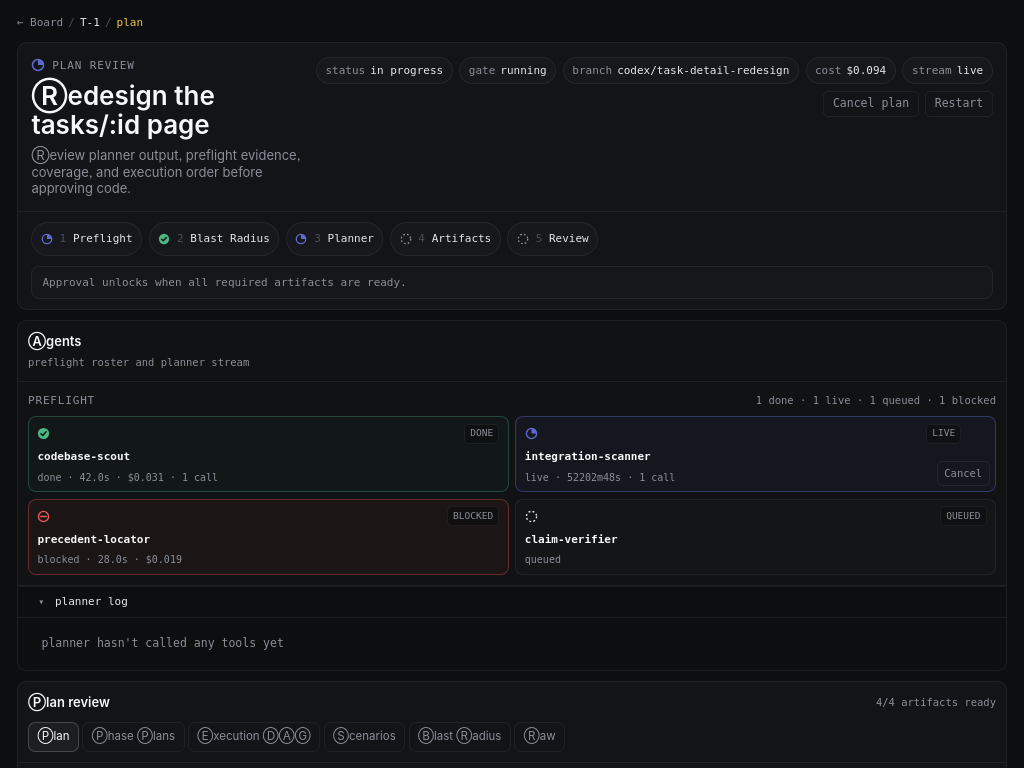
PlanConsole › collapses and expands the planner log
The image size is (1024, 768).
Expected: the text "planner hasn't called any tools yet" is shown, [42,636,284,650]
Click the button "▾ planner log" at (91, 602), box [18,587,1006,618]
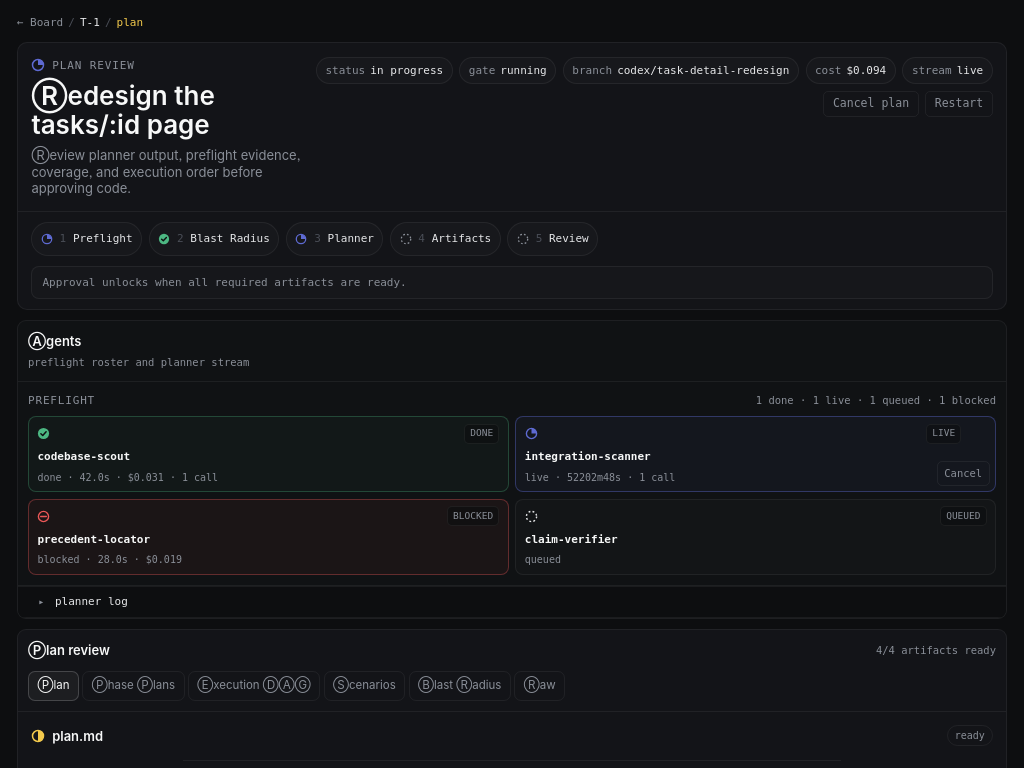
Expected: the text "planner hasn't called any tools yet" is gone
Click the button "▸ planner log" at (91, 602), box [18,587,1006,618]
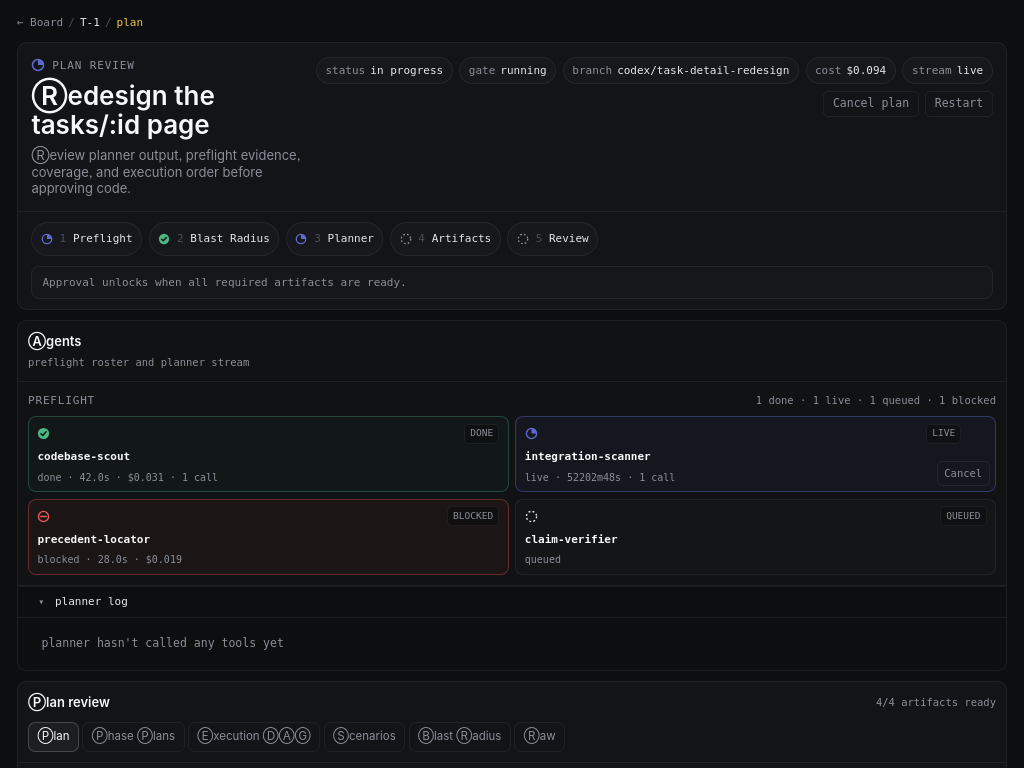
Expected: the text "planner hasn't called any tools yet" is shown, [42,636,284,650]
